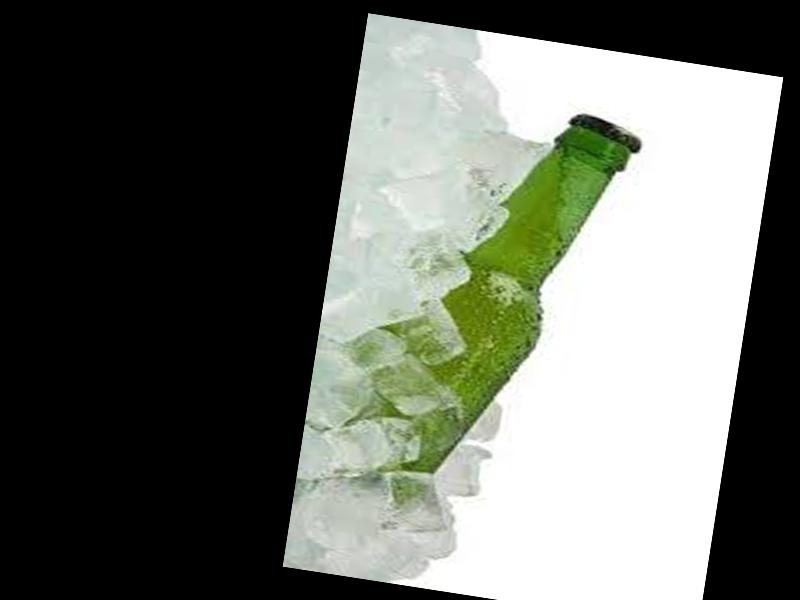Beer: (375, 87, 641, 526)
